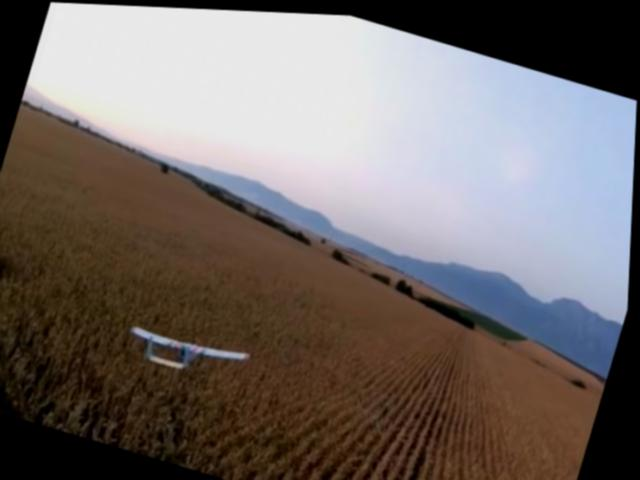uav: (121, 309, 259, 389)
